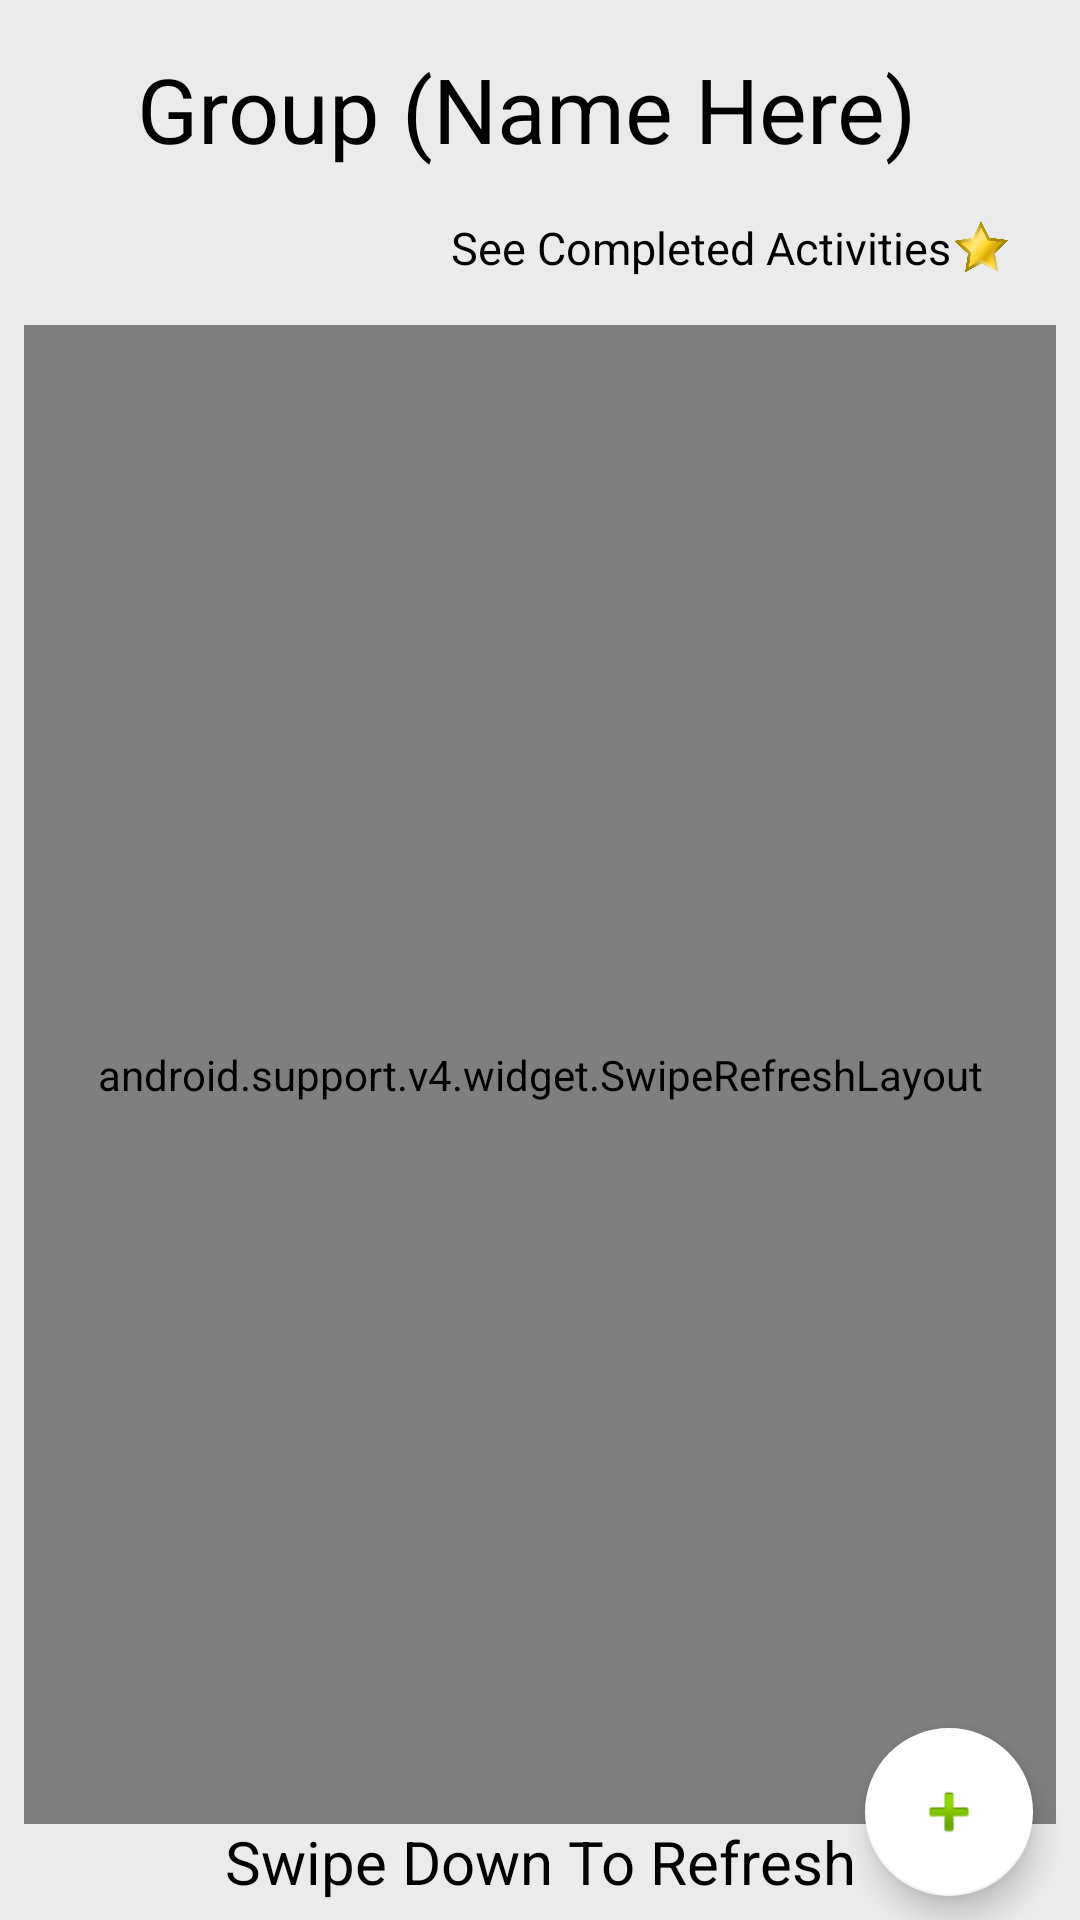

Point at icon controls on the screen. Image size 1080w x 1920h, points as (x,y).
add: (949,1812)
star: (981,246)
